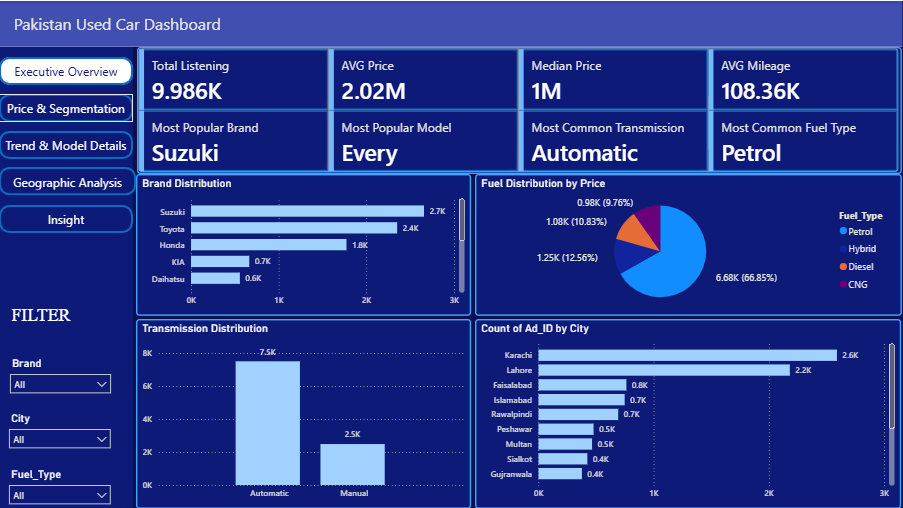

This screenshot's page, from the dashboard's own definition file:
{"tool":"powerbi","page":{"name":"Exective Overview","canvas":[1280,720],"ordinal":0},"visuals":[{"type":"cardVisual","fields":{"Data":["CountNonNull(Car_Dataset.Ad_ID)","Avg(Car_Dataset.Price_PKR)","Median(Car_Dataset.Price_PKR)1","Avg(Car_Dataset.Mileage_km)","Car_Dataset.Most Popular Brand","Car_Dataset.Most Popular Model","Car_Dataset.Most Common Transmission","Car_Dataset.Most Common Fuel Type"]},"box":[195.6,65.2,1084.3,180],"z":0},{"type":"shape","box":[0,63.8,189.7,654.5],"z":1000},{"type":"clusteredBarChart","title":"Brand Distribution ","fields":{"Category":["Car_Dataset.Brand"],"Y":["CountNonNull(Car_Dataset.Ad_ID)"]},"box":[194.2,245.2,474.8,201.3],"z":2000},{"type":"shape","box":[2.4,340.5,177.3,380.4],"z":3000},{"type":"pieChart","title":"Fuel Distribution by Price","fields":{"Category":["Car_Dataset.Fuel_Type"],"Y":["CountNonNull(Car_Dataset.Ad_ID)"]},"box":[674.6,245.2,605.2,201.3],"z":4000},{"type":"actionButton","box":[0,131.9,189.9,39.7],"z":5000},{"type":"clusteredColumnChart","title":"Transmission Distribution","fields":{"Category":["Car_Dataset.Transmission"],"Y":["CountNonNull(Car_Dataset.Ad_ID)"]},"box":[194.2,450.7,474.8,269.3],"z":6000},{"type":"slicer","fields":{"Values":["Car_Dataset.Brand"]},"box":[5.7,498.6,163,62.9],"z":7000},{"type":"clusteredBarChart","fields":{"Category":["Car_Dataset.City"],"Y":["CountNonNull(Car_Dataset.Ad_ID)"]},"box":[674.6,450.7,603.8,269.3],"z":8000},{"type":"actionButton","box":[0,184.1,189.9,39.7],"z":9000},{"type":"slicer","fields":{"Values":["Car_Dataset.City"]},"box":[4.3,577.2,164.5,64.4],"z":10000},{"type":"shape","box":[0,0,1280.2,64.8],"z":11000},{"type":"actionButton","box":[0,236,194.5,40],"z":12000},{"type":"slicer","fields":{"Values":["Car_Dataset.Fuel_Type"]},"box":[4.3,655.9,164.5,62.9],"z":13000},{"type":"actionButton","box":[0,288.6,189.9,39.7],"z":14000},{"type":"actionButton","box":[0,79.6,189.9,39.7],"z":15000}]}

Visuals, with their boxes in screenshot pixels (x1, y1, x2, y2), scaled from the page's 1280x720 canvas onto the 903x508 screenshot:
cardVisual - CountNonNull(Car_Dataset.Ad_ID) x Avg(Car_Dataset.Price_PKR): [x1=138, y1=46, x2=902, y2=173]
shape: [x1=0, y1=45, x2=134, y2=507]
"Brand Distribution " clusteredBarChart: [x1=137, y1=173, x2=472, y2=315]
shape: [x1=2, y1=240, x2=127, y2=507]
"Fuel Distribution by Price" pieChart: [x1=476, y1=173, x2=902, y2=315]
actionButton: [x1=0, y1=93, x2=134, y2=121]
"Transmission Distribution" clusteredColumnChart: [x1=137, y1=318, x2=472, y2=507]
slicer - Car_Dataset.Brand: [x1=4, y1=352, x2=119, y2=396]
clusteredBarChart - Car_Dataset.City x CountNonNull(Car_Dataset.Ad_ID): [x1=476, y1=318, x2=902, y2=507]
actionButton: [x1=0, y1=130, x2=134, y2=158]
slicer - Car_Dataset.City: [x1=3, y1=407, x2=119, y2=453]
shape: [x1=0, y1=0, x2=902, y2=46]
actionButton: [x1=0, y1=167, x2=137, y2=195]
slicer - Car_Dataset.Fuel_Type: [x1=3, y1=463, x2=119, y2=507]
actionButton: [x1=0, y1=204, x2=134, y2=232]
actionButton: [x1=0, y1=56, x2=134, y2=84]
